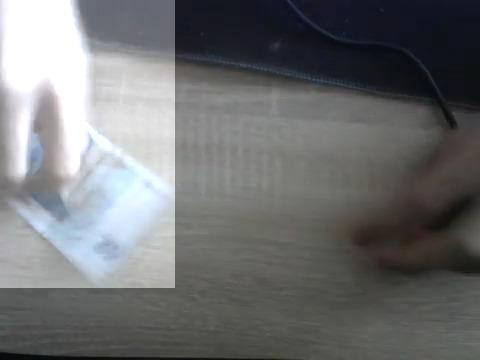20leva: (0, 1, 175, 288)
